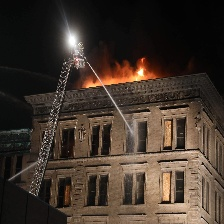fire: (80, 63, 158, 96)
